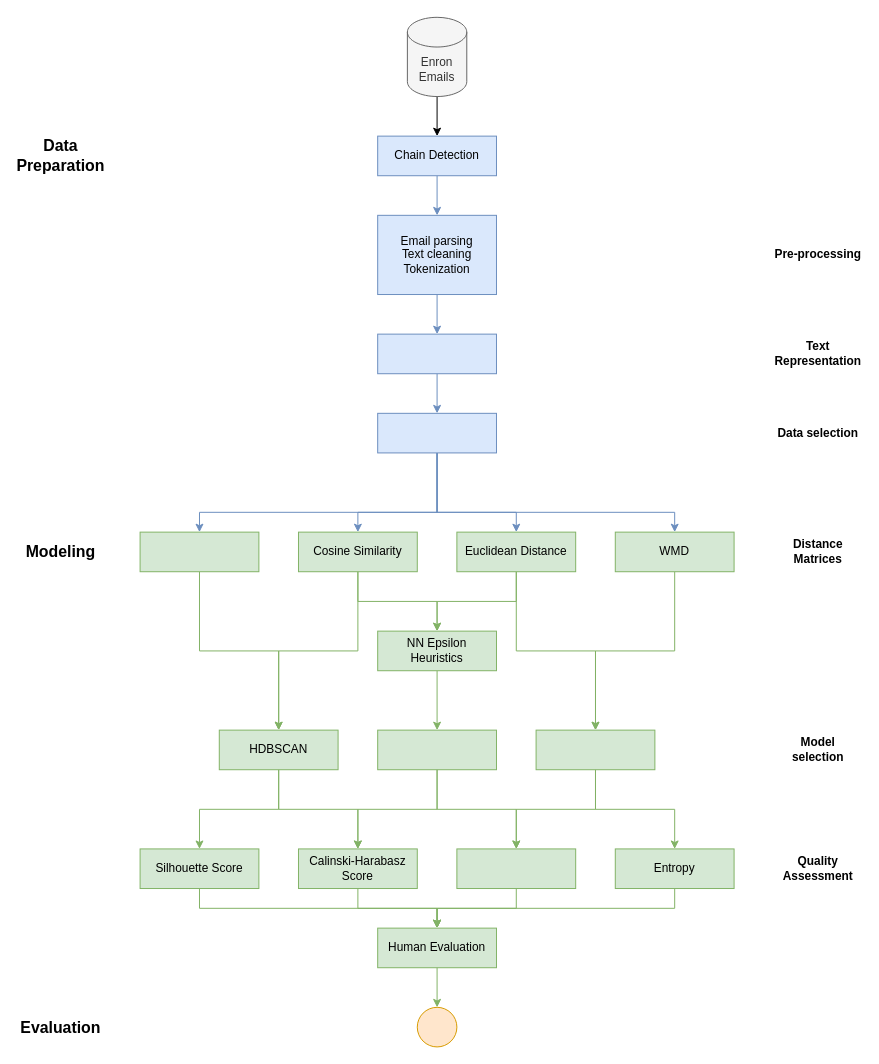
This 879x1064 diagram has some shape labels left out. Each missing label, with the centre of its shape:
"Data Split" goes at point 436,432.
"Davies-Bouldin Score" goes at point 516,868.
"DBSCAN" goes at point 436,749.
"Doc2vec" goes at point 436,353.
"K-Means" goes at point 595,749.
"L2 Norm" goes at point 199,551.
